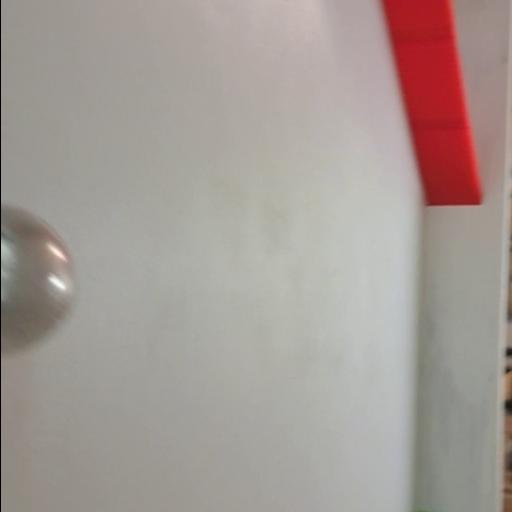alive: (0, 198, 79, 360)
